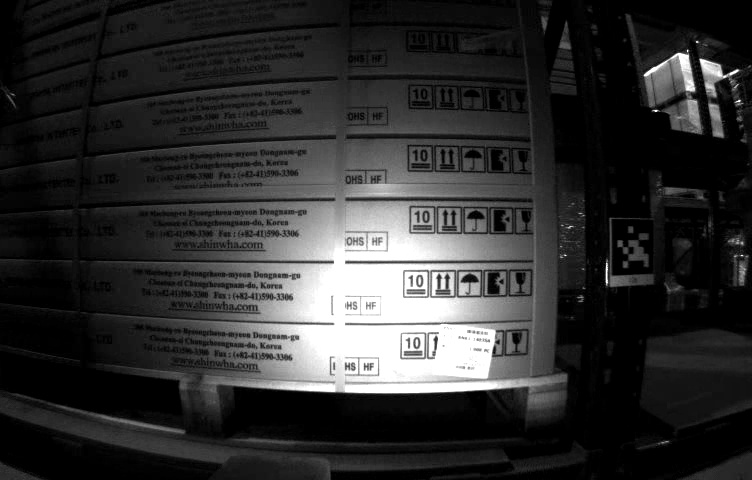True Barcode: (433, 324, 491, 379)
